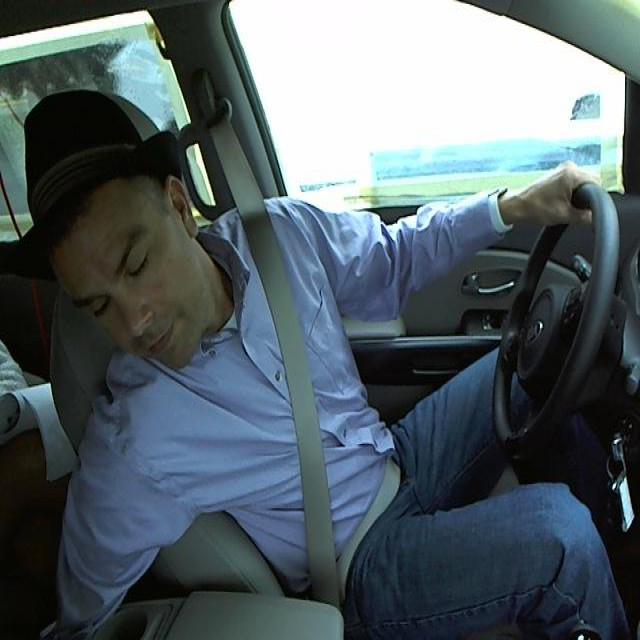seatbelt: (241, 231, 398, 580)
